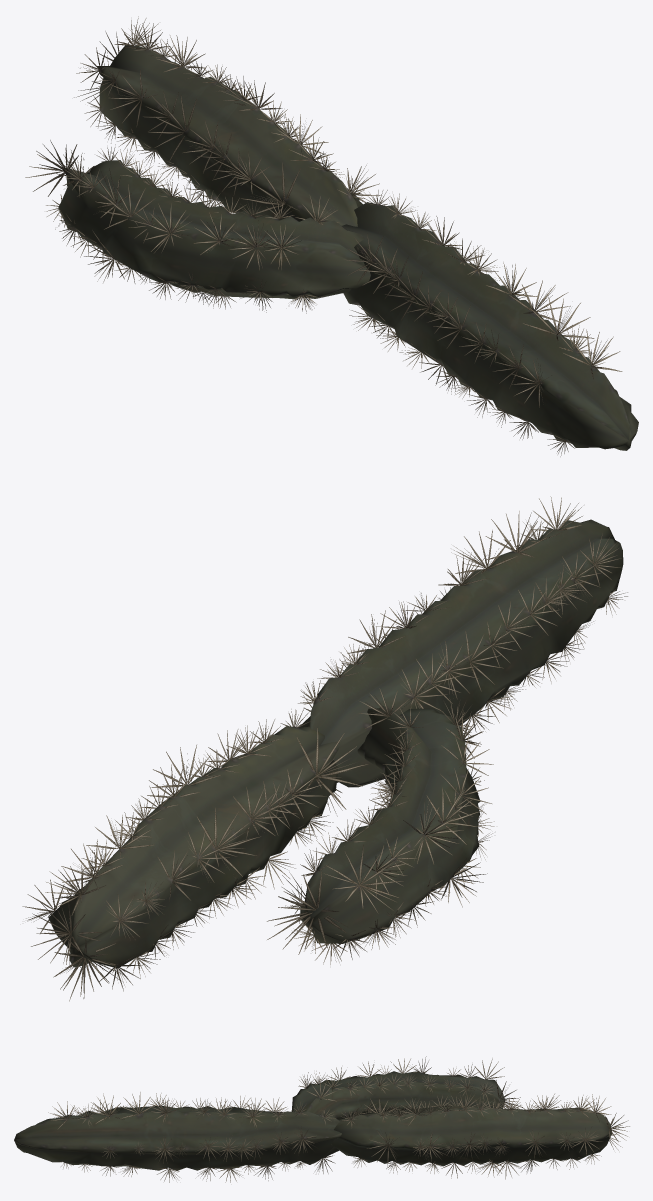
Rendered from DE_Cactus_01.fbx.
3 views of the same model, one above another, from view 1: azimuth 30°, elevation 25°; view 2: azimuth 150°, elevation 25°; view 3: azimuth 270°, elevation 25° (orthographic). The views are drawn at different scales.
Visible parts, largest first — view 1: DE_Cactus_01, DE_Cactus_01_Needles; view 2: DE_Cactus_01, DE_Cactus_01_Needles; view 3: DE_Cactus_01, DE_Cactus_01_Needles.
Part boxes in pixels (x1,y1,x2,y2): DE_Cactus_01: [58, 45, 638, 450]; DE_Cactus_01_Needles: [25, 16, 622, 456]; DE_Cactus_01: [48, 519, 623, 968]; DE_Cactus_01_Needles: [22, 496, 627, 1001]; DE_Cactus_01: [14, 1071, 611, 1170]; DE_Cactus_01_Needles: [48, 1056, 629, 1182].
Size of the model in its own units: 1.23 by 0.6543 by 3.95.
